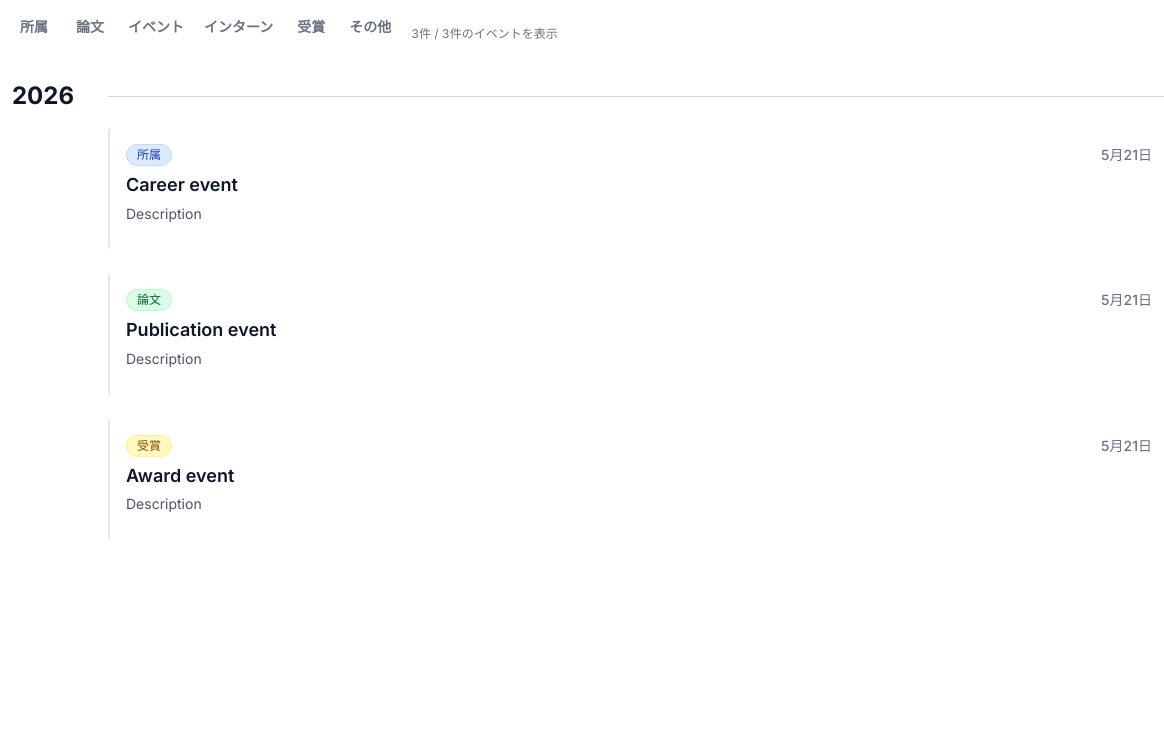
it: EventList › shows all events until a category filter is selected
expect the text "3件 / 3件のイベントを表示" is shown: met, box top-left (411, 26), bottom-right (558, 42)
expect the heading "Career event" is shown: met, box top-left (126, 174), bottom-right (238, 195)
Click the button "論文" at x=90, y=34, box top-left (68, 12), bottom-right (112, 56)
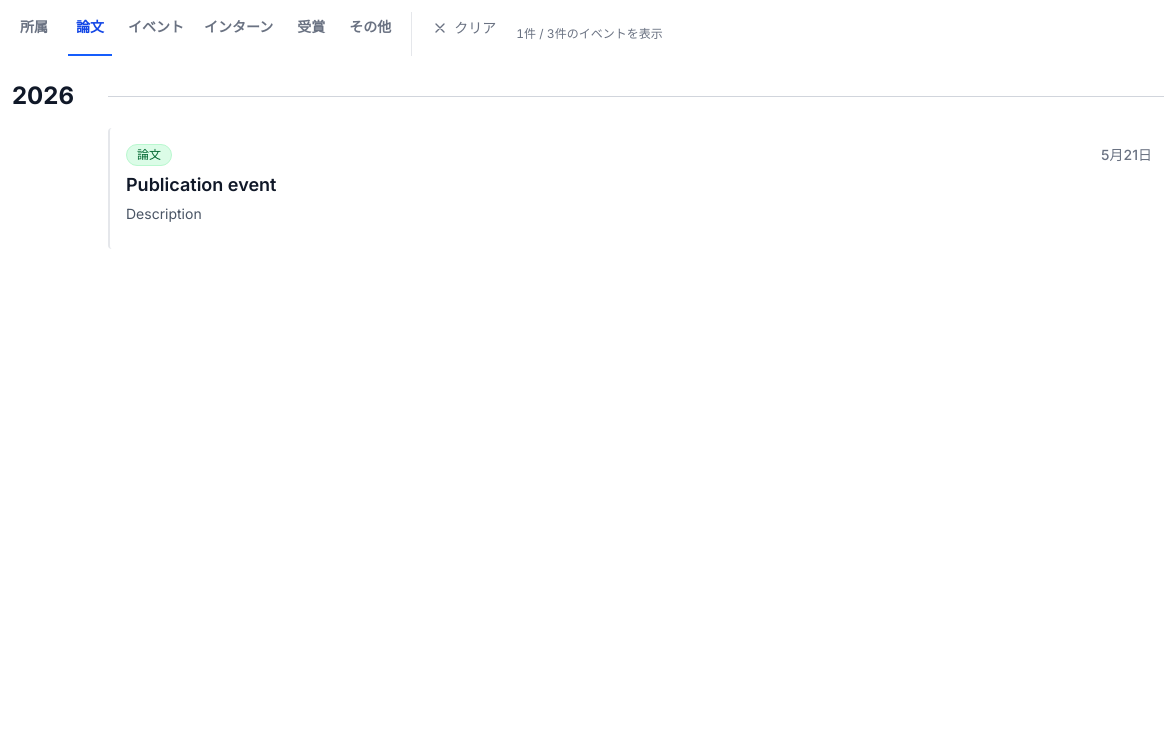
expect the heading "Publication event" is shown: met, box top-left (126, 174), bottom-right (276, 195)
expect the text "1件 / 3件のイベントを表示" is shown: met, box top-left (516, 26), bottom-right (663, 42)
expect the button "Career event" is gone: met
